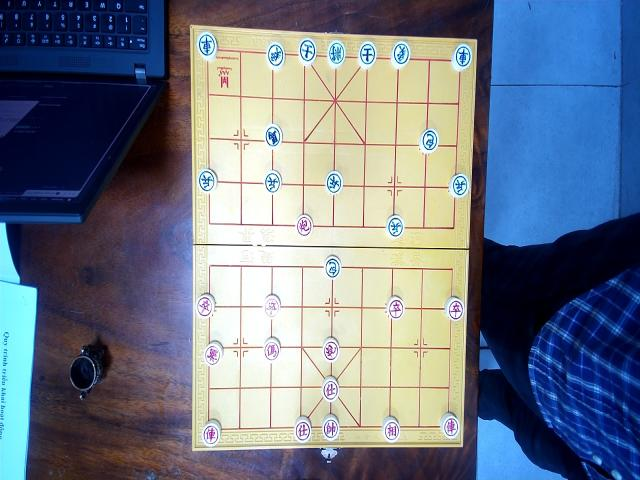piece: (450, 42, 472, 70), (448, 171, 469, 199), (197, 31, 217, 60), (202, 420, 222, 447), (439, 412, 459, 439), (202, 340, 222, 367), (418, 127, 438, 154), (390, 41, 410, 68), (326, 40, 346, 67), (266, 42, 285, 70), (298, 36, 317, 64), (382, 415, 401, 442), (444, 296, 464, 321), (294, 416, 312, 443), (322, 337, 340, 364), (358, 41, 376, 68), (322, 415, 340, 441), (196, 292, 214, 318), (386, 214, 404, 239), (324, 170, 342, 195), (198, 167, 216, 192), (321, 376, 338, 402), (386, 295, 404, 319), (264, 124, 281, 149), (324, 254, 341, 278), (264, 336, 280, 361), (296, 214, 312, 238), (264, 294, 280, 317), (264, 170, 280, 193)
